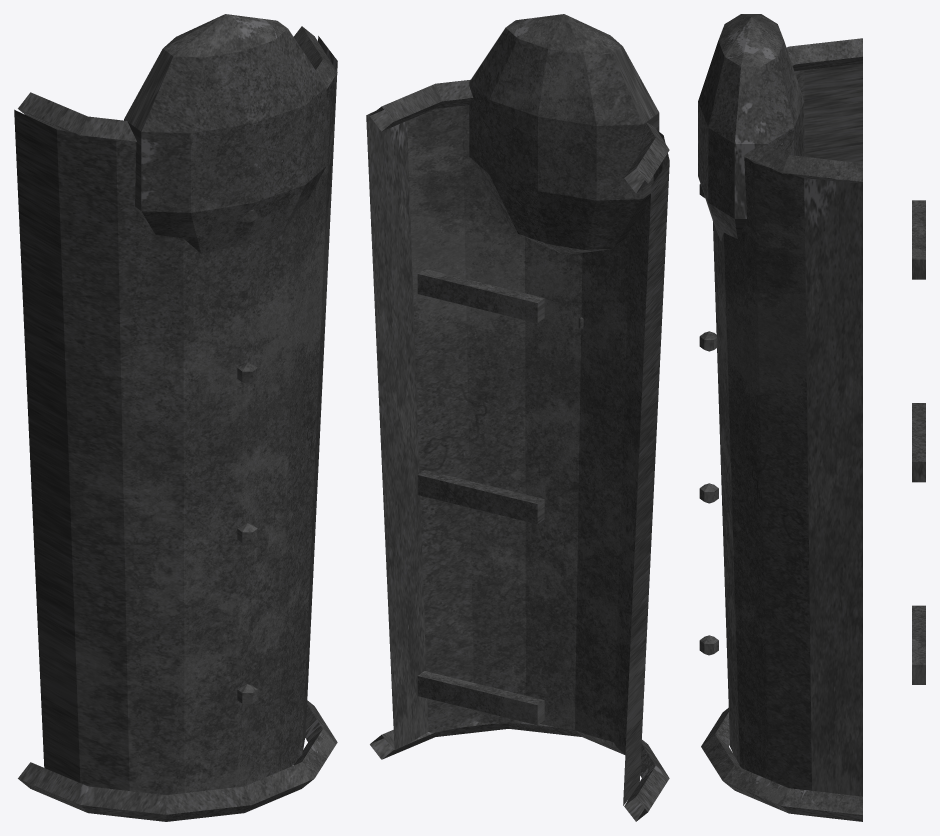
Rendered from greaves.glb.
3 views of the same model, side by side, from view 1: azimuth 30°, elevation 25°; view 2: azimuth 150°, elevation 25°; view 3: azimuth 270°, elevation 25° (orthographic). The views are drawn at different scales.
Visible parts, largest first — view 1: greaves; view 2: greaves; view 3: greaves.
Boxes of the visible parts, x1,y1,x2,y2 form: greaves: [14, 14, 337, 821]; greaves: [366, 14, 669, 821]; greaves: [698, 14, 925, 821].
Bounding box in the file's own units: 0.1188 × 0.293 × 0.0815.
1 material, 1 textured.
